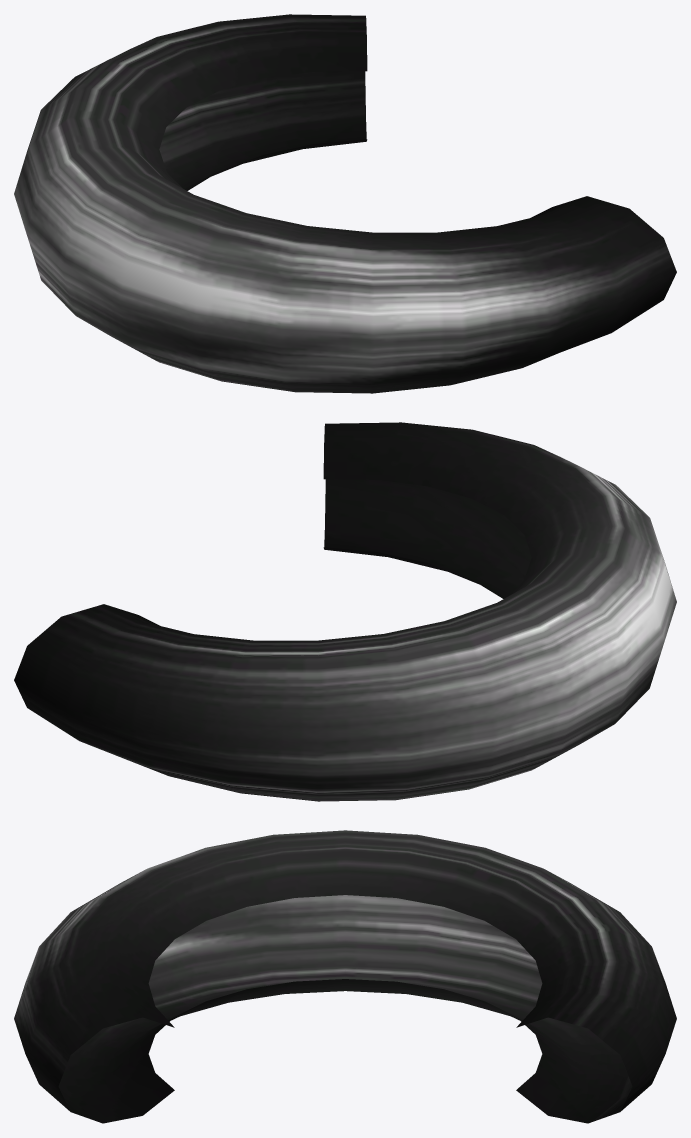
Rendered from EV_yuanhu_0.FBX.
3 views of the same model, one above another, from view 1: azimuth 30°, elevation 25°; view 2: azimuth 150°, elevation 25°; view 3: azimuth 270°, elevation 25° (orthographic). The views are drawn at different scales.
Visible parts, largest first — view 1: yuanhu_0; view 2: yuanhu_0; view 3: yuanhu_0.
Part boxes in pixels (x1,y1,x2,y2): yuanhu_0: [14, 14, 676, 393]; yuanhu_0: [14, 422, 676, 801]; yuanhu_0: [14, 830, 676, 1123].
Bounding box in the file's own units: 9.51 × 3.09 × 12.94.
1 material, 1 textured.
